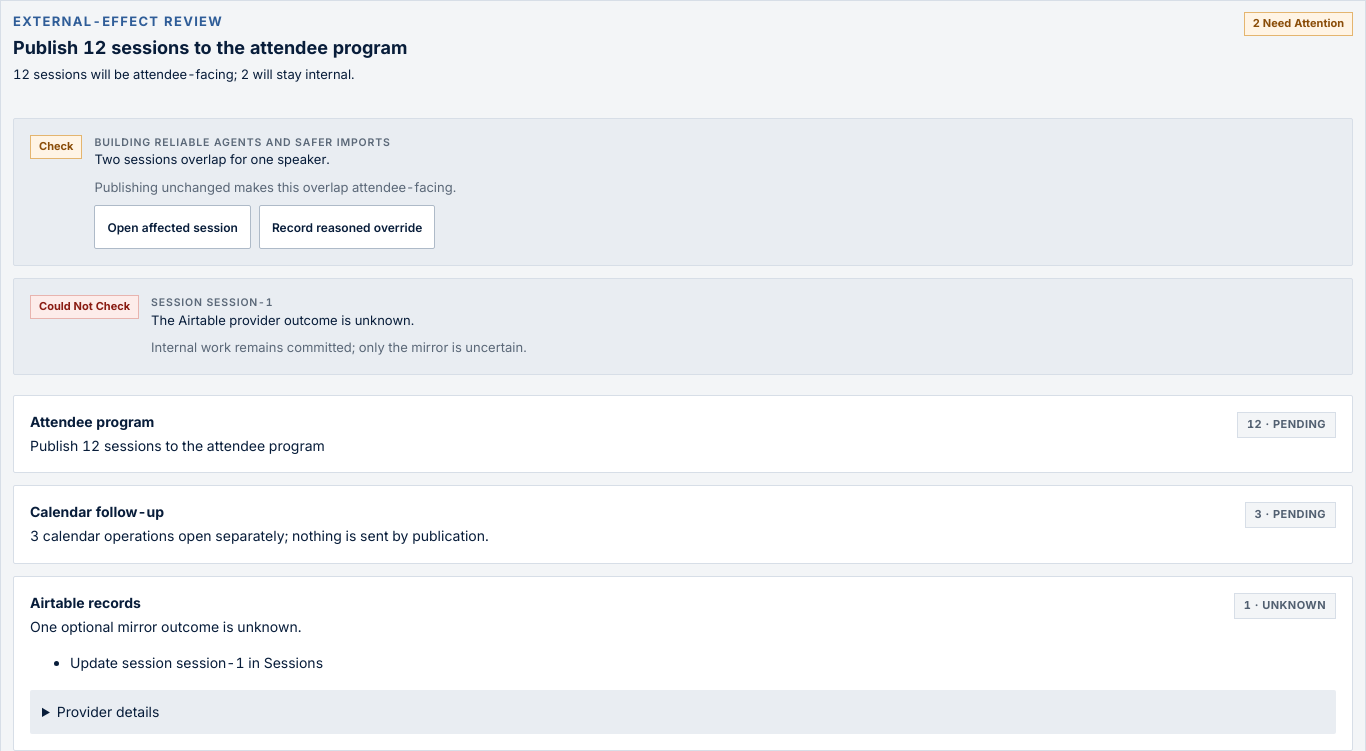
it: ExternalEffectReviewPanel › shows business consequences and keeps provider detail behind disclosure
This screenshot has width=1366, height=751.
Expected: the heading "Publish 12 sessions to the attendee program" is shown, [13, 34, 407, 61]
Expected: the text "2 need attention" is shown, [1244, 12, 1353, 36]
Click the text "Calendar follow-up": (97, 512) [30, 503, 164, 520]
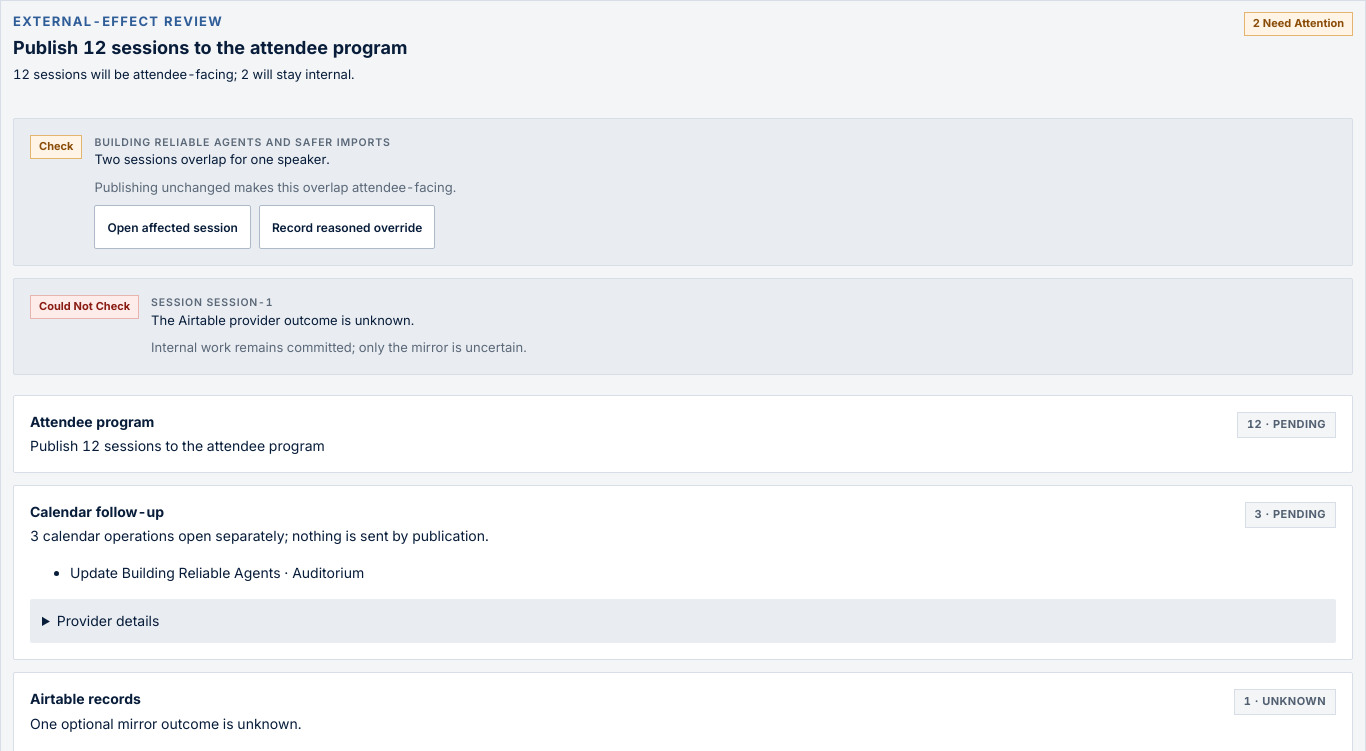
Click the heading "Provider details": (108, 620) [57, 612, 159, 629]
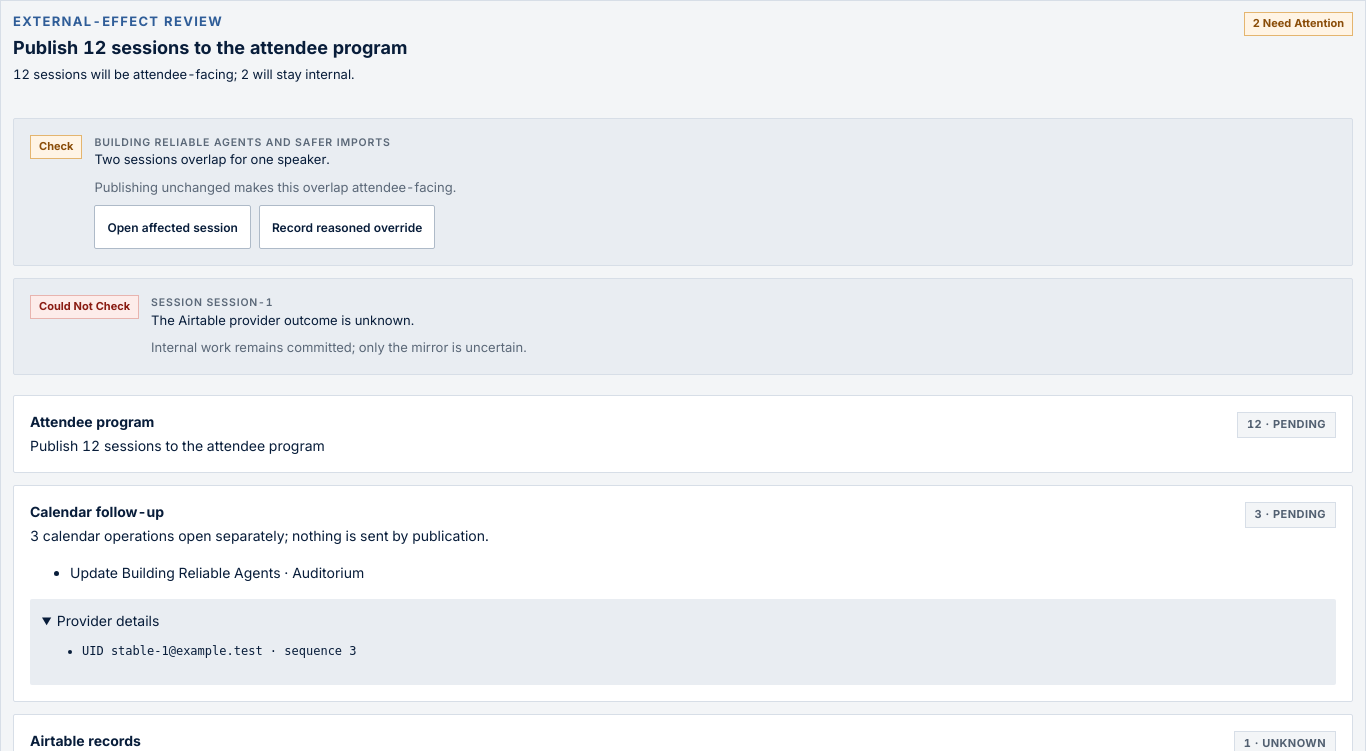
Expected: the list item "UID stable-1@example.test · sequence 3" is shown, [82, 644, 356, 658]
